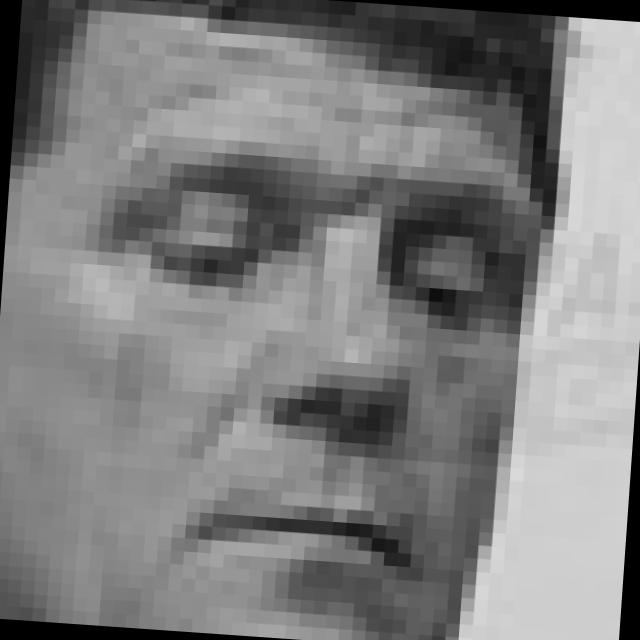sad: (70, 137, 527, 624)
